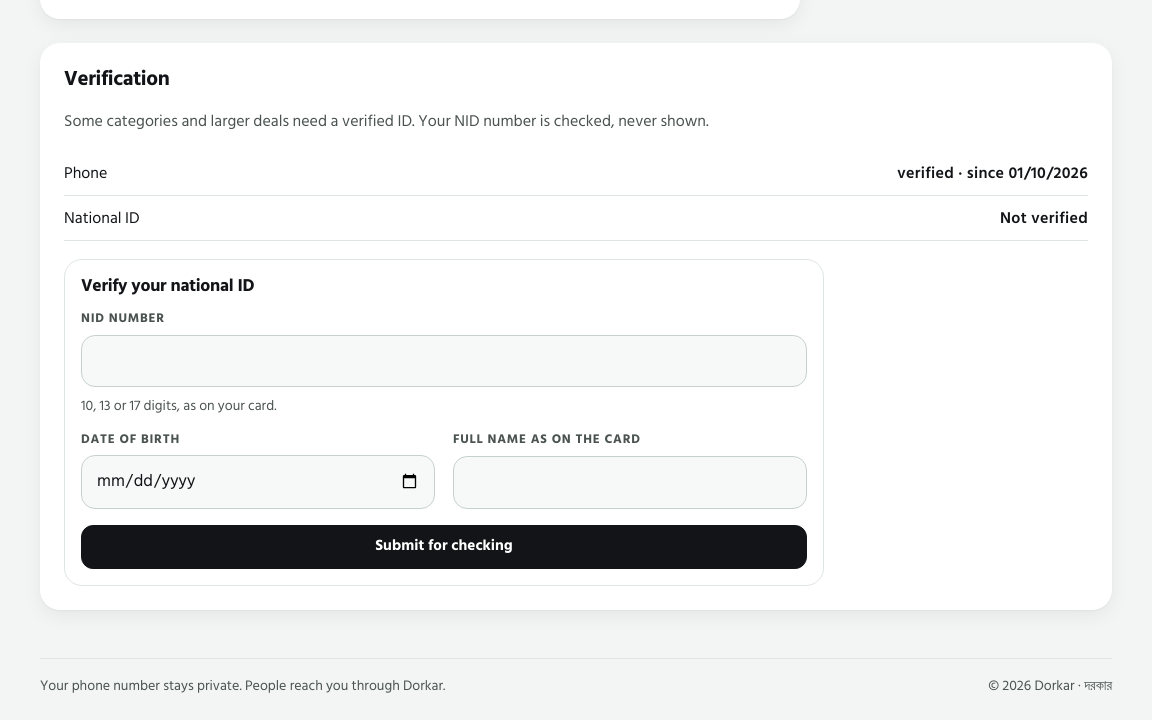
it: profile settings › submits a national ID for checking
(page scrolled)
Type "১২৩৪৫৬৭৮৯০" into the field labelled "NID number" at [444, 360], box [82,336,806,386]
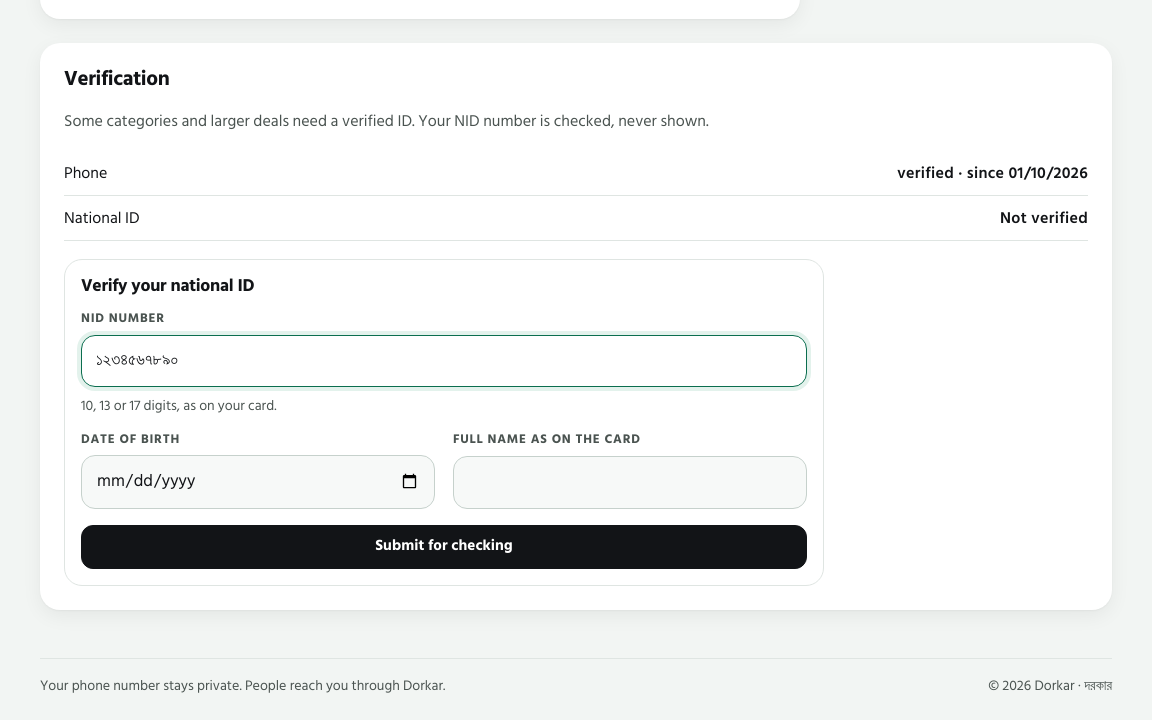
Type "1990-05-01" into the date field labelled "Date of birth" at [258, 482], box [82,456,434,508]
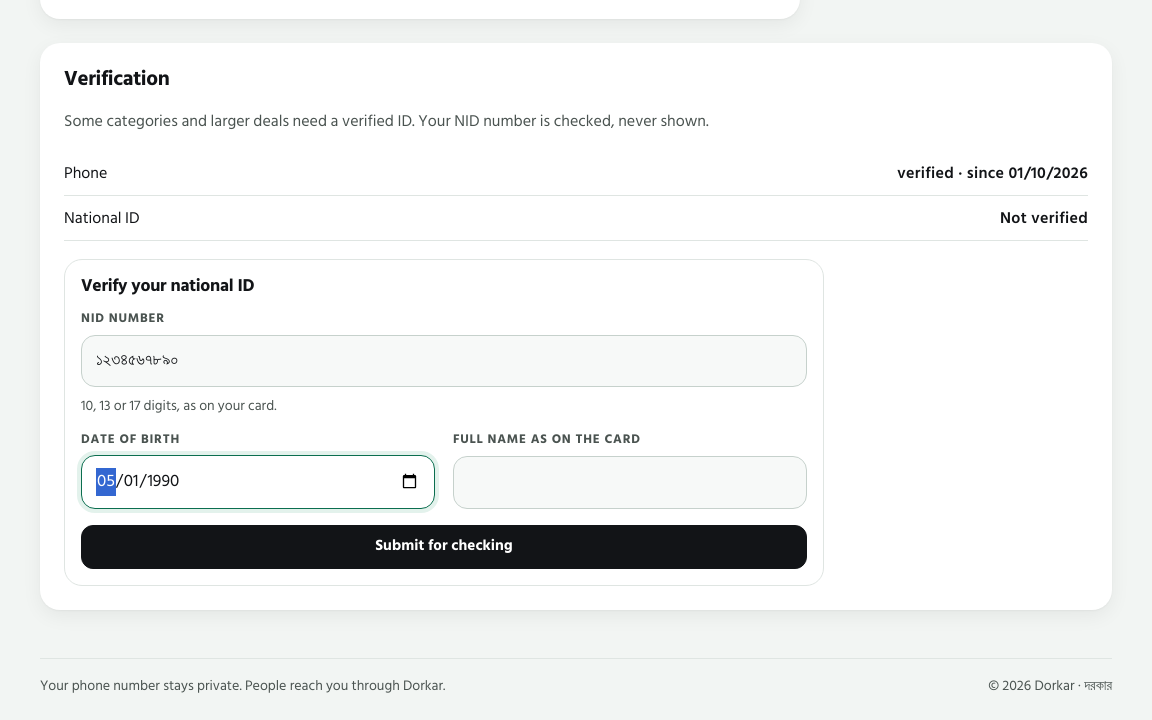
Type "Nadia Rahman" into the field labelled "Full name as on the card" at [630, 482], box [454,457,806,508]
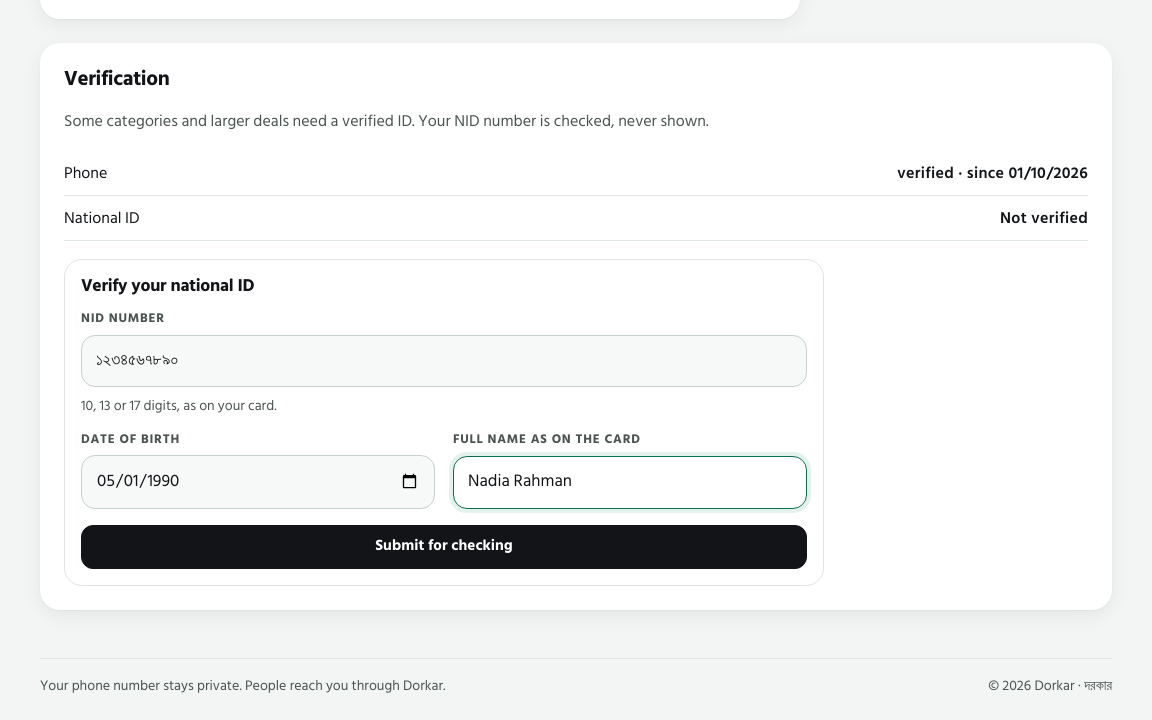
Click the button "Submit for checking" at [444, 546], box [81,524,807,568]
(page scrolled)
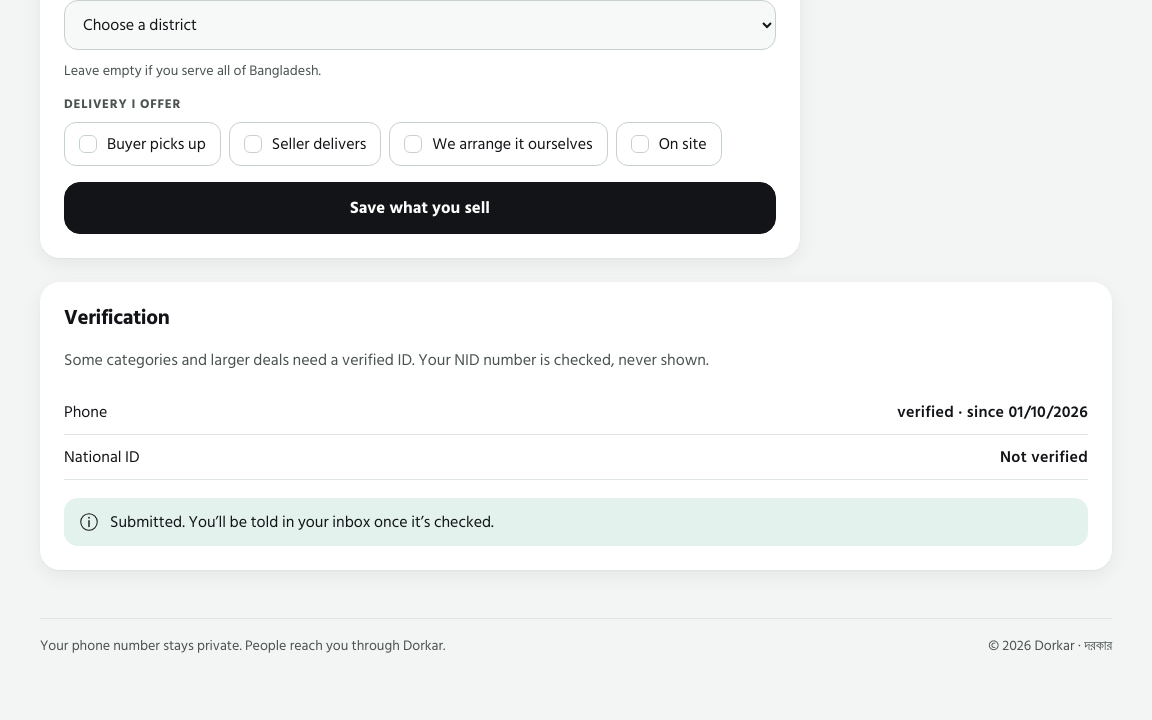
Result: the text "Submitted. You’ll be told in your inbox once it’s checked." is shown at [110,508,494,534]
